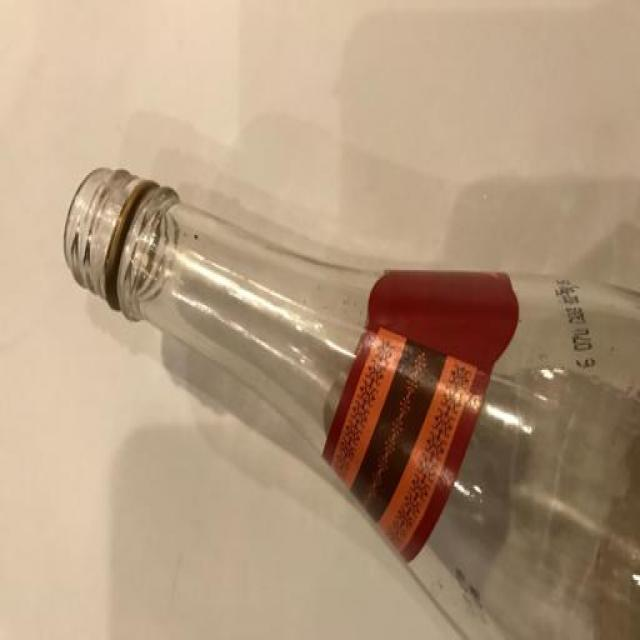glass: (41, 122, 640, 640)
